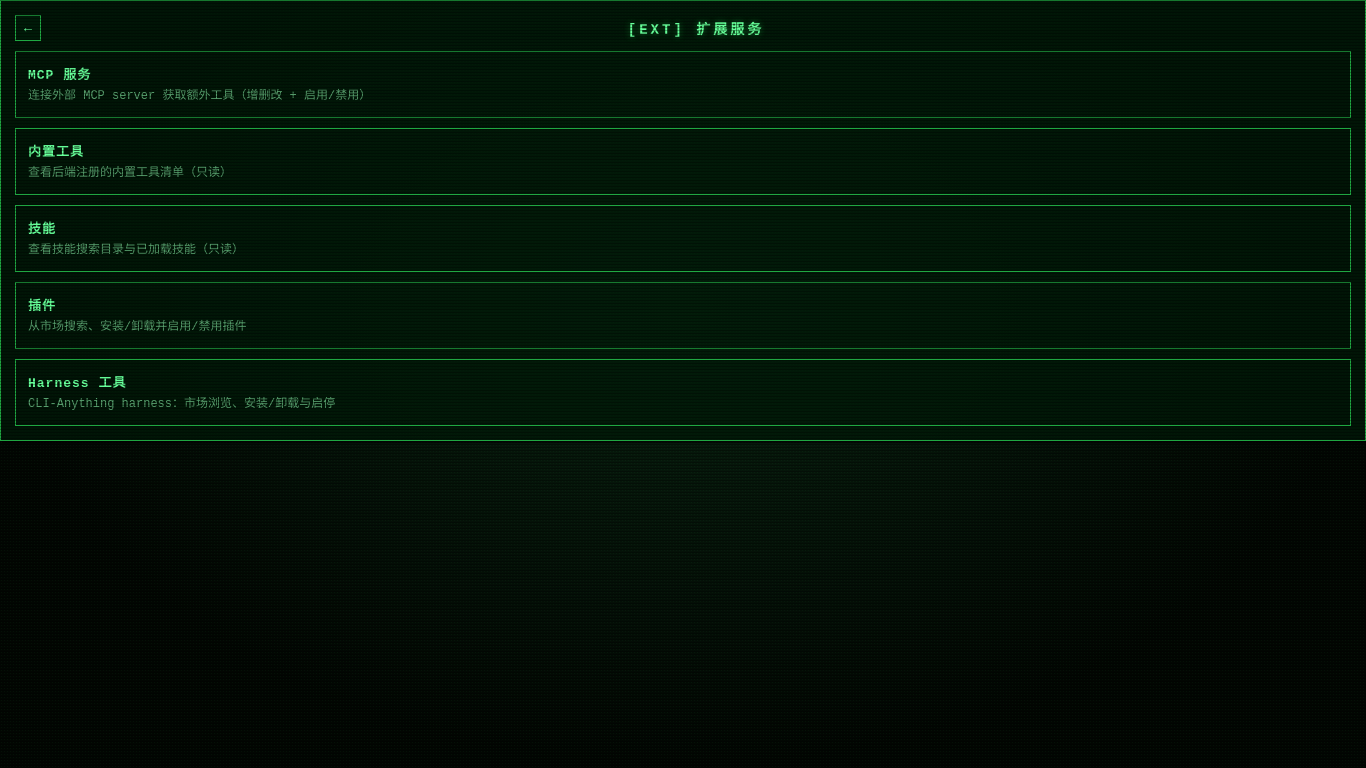
ExtensionMcpPanel · 清单与增删改启停 › mcp.list 渲染 server 清单（含连接态与工具数）
Click the button with test id "btn-extension-mcp".
click(60, 76)  # box [15,51,1351,118]
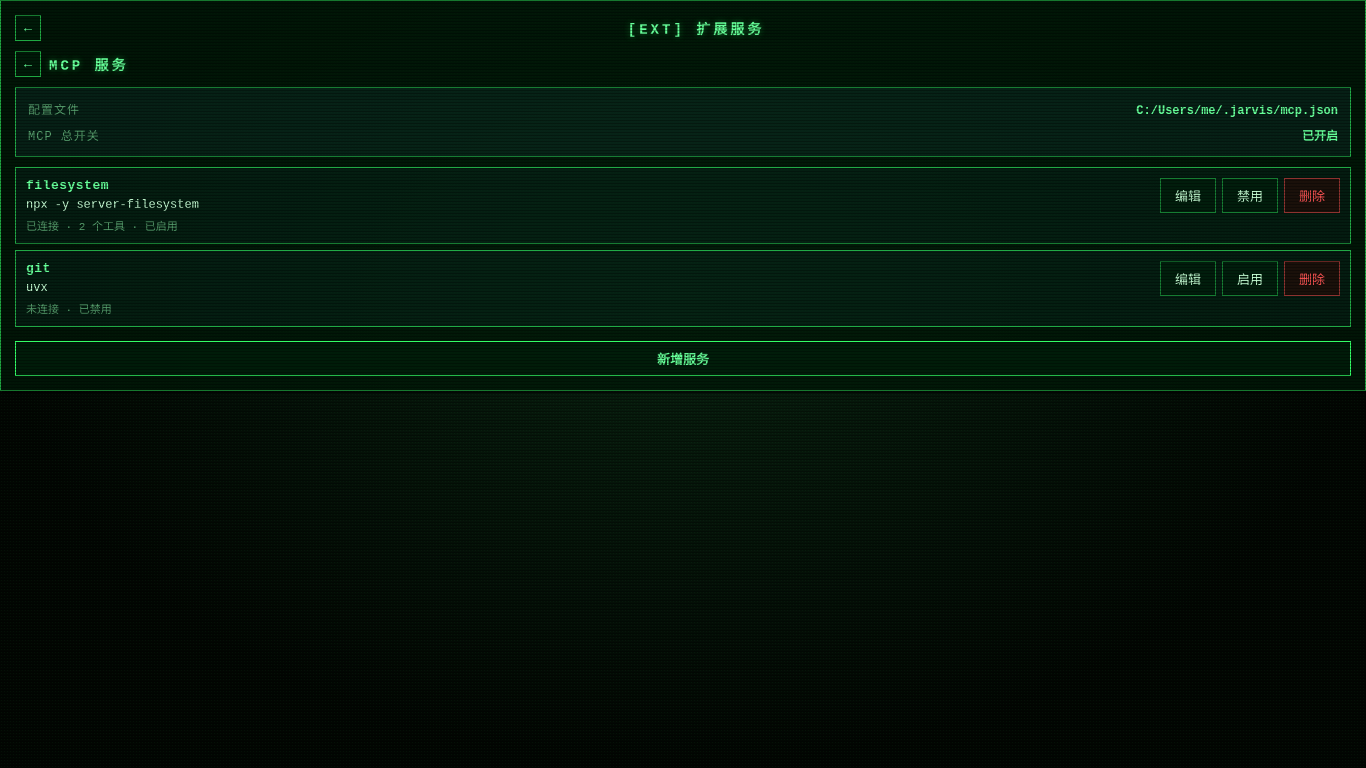
Result: the element with test id "mcp-item-filesystem" is shown at [15,167,1351,244]
Result: the element with test id "mcp-item-filesystem" shows "已连接 · 2 个工具" at [26,221,125,233]
Result: the element with test id "mcp-item-git" shows "未连接" at [26,304,59,316]
